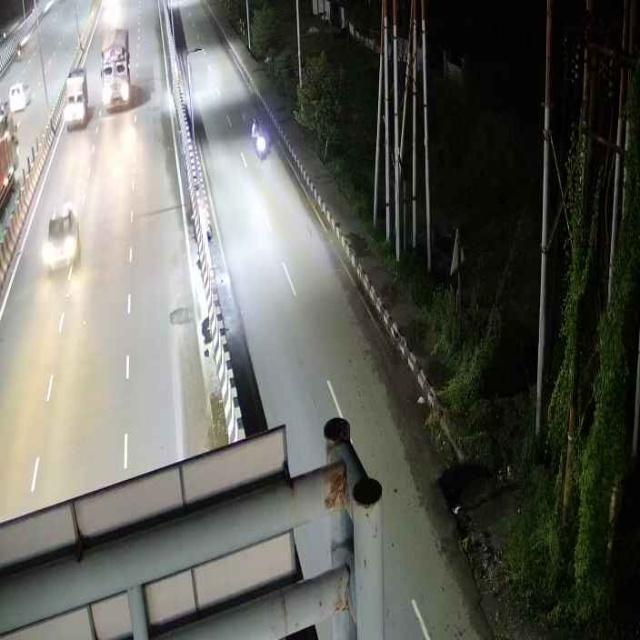car: (39, 196, 84, 274), (60, 60, 90, 133)
